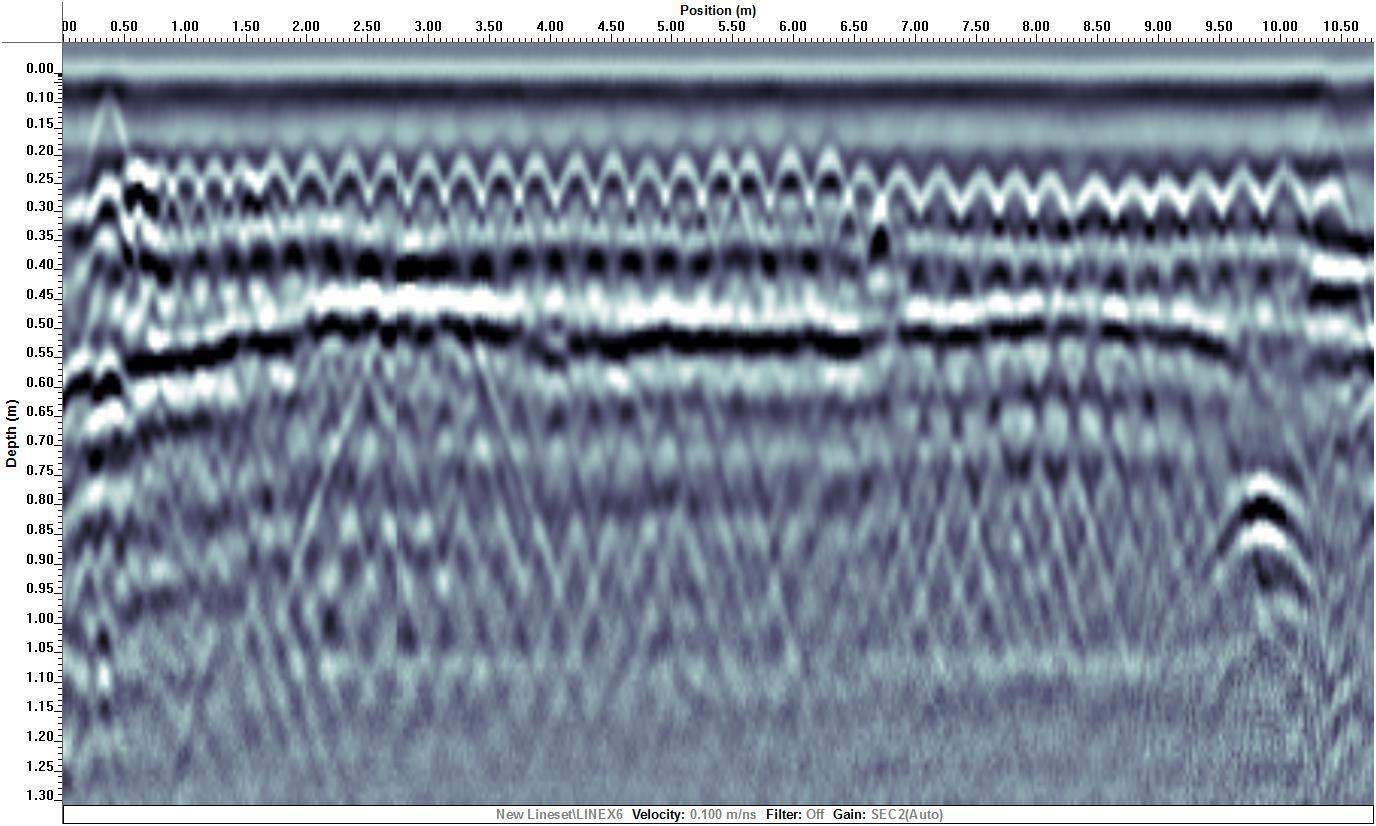hyperbola: (327, 140, 371, 224), (257, 136, 296, 218), (368, 142, 408, 220), (410, 147, 450, 225), (439, 146, 479, 224), (479, 146, 519, 224), (516, 146, 556, 224), (553, 140, 593, 218), (590, 140, 630, 218), (630, 143, 670, 221), (664, 142, 704, 220), (698, 145, 738, 223), (728, 143, 768, 221), (766, 141, 806, 219), (808, 142, 848, 220), (876, 158, 916, 236), (917, 157, 957, 235), (954, 159, 994, 237), (991, 162, 1031, 240), (1032, 160, 1072, 238), (1112, 163, 1152, 241), (1073, 165, 1113, 243), (1145, 161, 1185, 239), (1182, 164, 1222, 242), (1222, 163, 1262, 241), (1259, 160, 1299, 238), (297, 152, 327, 213)
